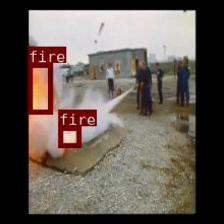fire: (28, 61, 52, 114), (58, 126, 80, 146)
